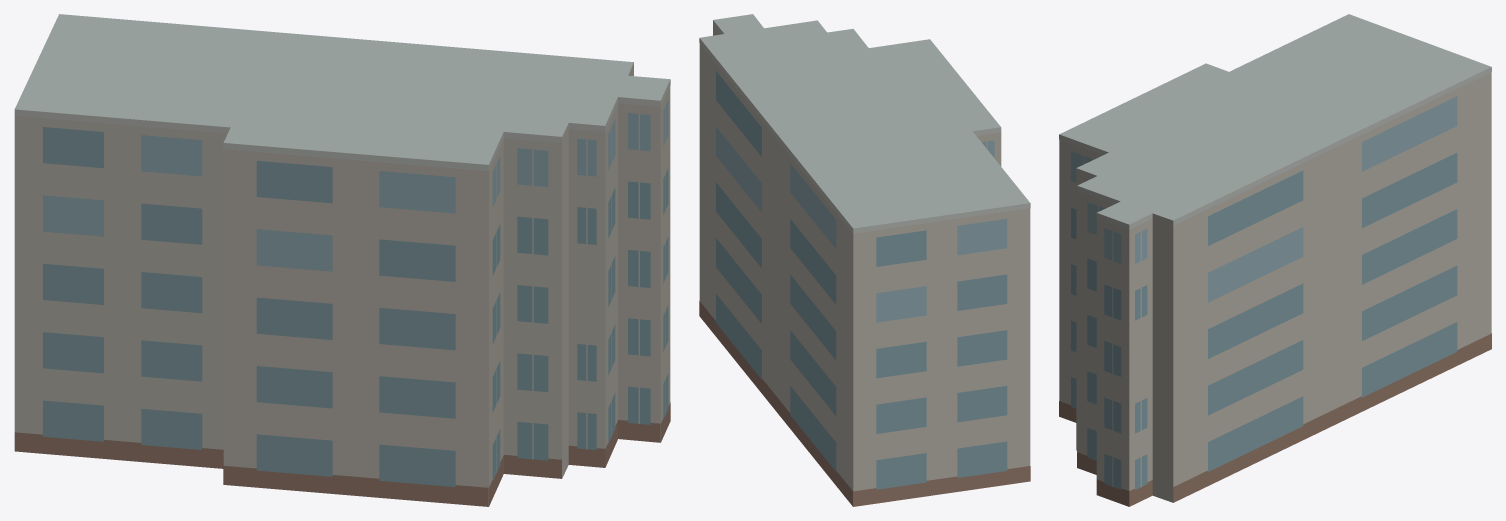
The model's file is survey-upis-32567652.glb.
3 renders of one model, left to right at view 1: azimuth 30°, elevation 25°; view 2: azimuth 150°, elevation 25°; view 3: azimuth 270°, elevation 25°, orthographic. The views are drawn at different scales.
Visible parts, largest first — view 1: survey-upis-32567652.tmp; view 2: survey-upis-32567652.tmp; view 3: survey-upis-32567652.tmp.
Boxes of the visible parts, bbox=[...] form: survey-upis-32567652.tmp: bbox=[14, 14, 670, 506]; survey-upis-32567652.tmp: bbox=[699, 14, 1030, 506]; survey-upis-32567652.tmp: bbox=[1059, 14, 1491, 506].
Bounding box in the file's own units: 21.13 × 13.2 × 18.34.
